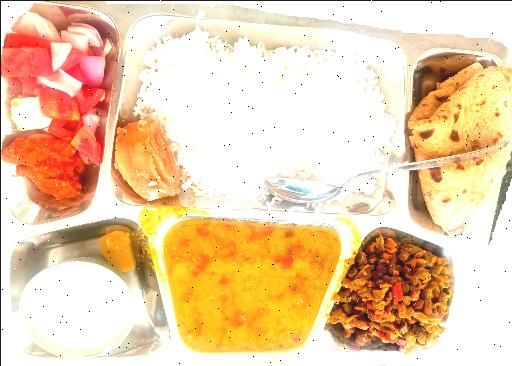Curd: (14, 270, 132, 354)
Dal: (178, 222, 320, 346)
Pickle: (4, 136, 76, 207)
Rice: (128, 33, 396, 204)
Roti: (407, 59, 512, 228)
Salad: (8, 15, 112, 125)
Sweet: (113, 113, 176, 200)
Vegetable: (352, 241, 448, 335)
